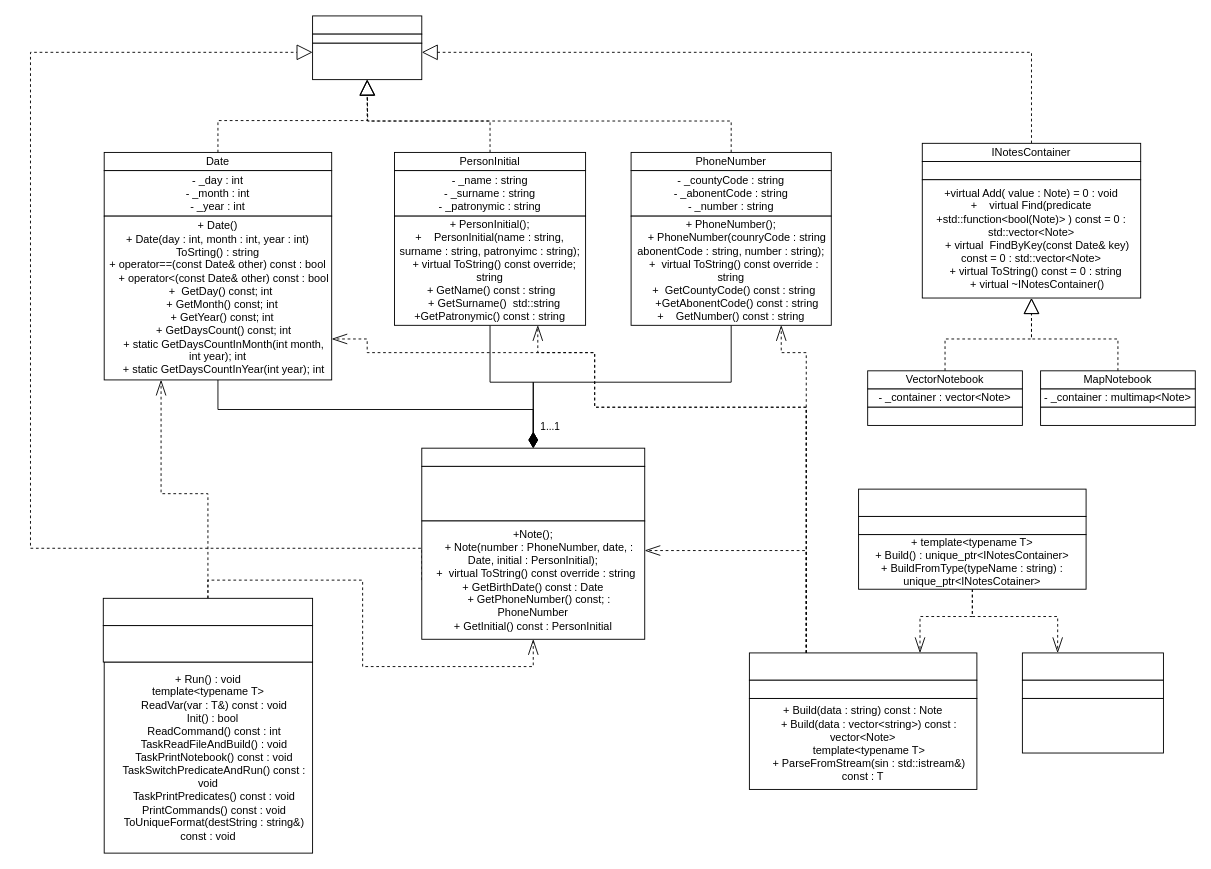
This 1211x869 diagram has some shape labels left out. The centre of each missing label's shape, as x and y in pixels:
+ Read(fileName : const char*) : vector<string>: the point at 1092,725
+ virtual ToSting() const : string = 0: the point at 367,61
-_number : PhoneNumber -_birthDate : Date -_initial : PersonInitial: the point at 533,493
_notebook : unique_ptr<INotesContainer>: the point at 207,643
ConsoleInteractor: the point at 207,611
IStringConvertable: the point at 367,24
Note: the point at 533,456
NotebookBuilder: the point at 972,502
NoteBuilder: the point at 862,666
NoteFileReader: the point at 1092,666
